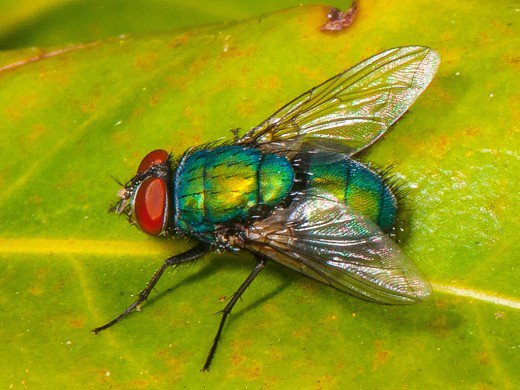green bottles fly: (68, 53, 459, 368)
